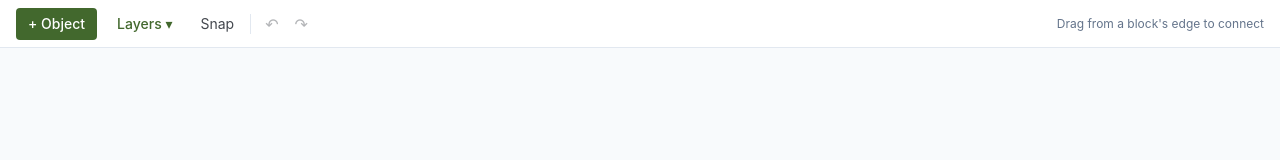
ArchitectureCanvas › layers popover › closes on Escape
This screenshot has width=1280, height=160.
Click the button "Layers ▾". click: (145, 24)
box: [105, 8, 184, 40]
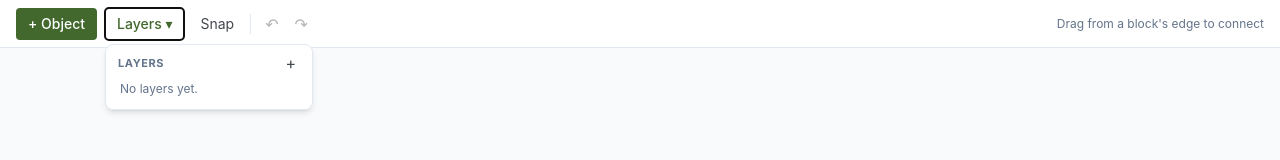
Press Escape
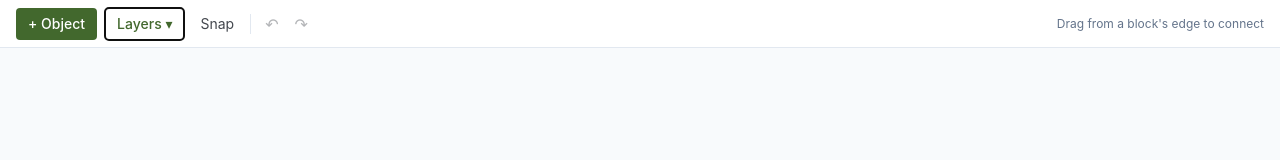
Check: the text "No layers yet" is gone
